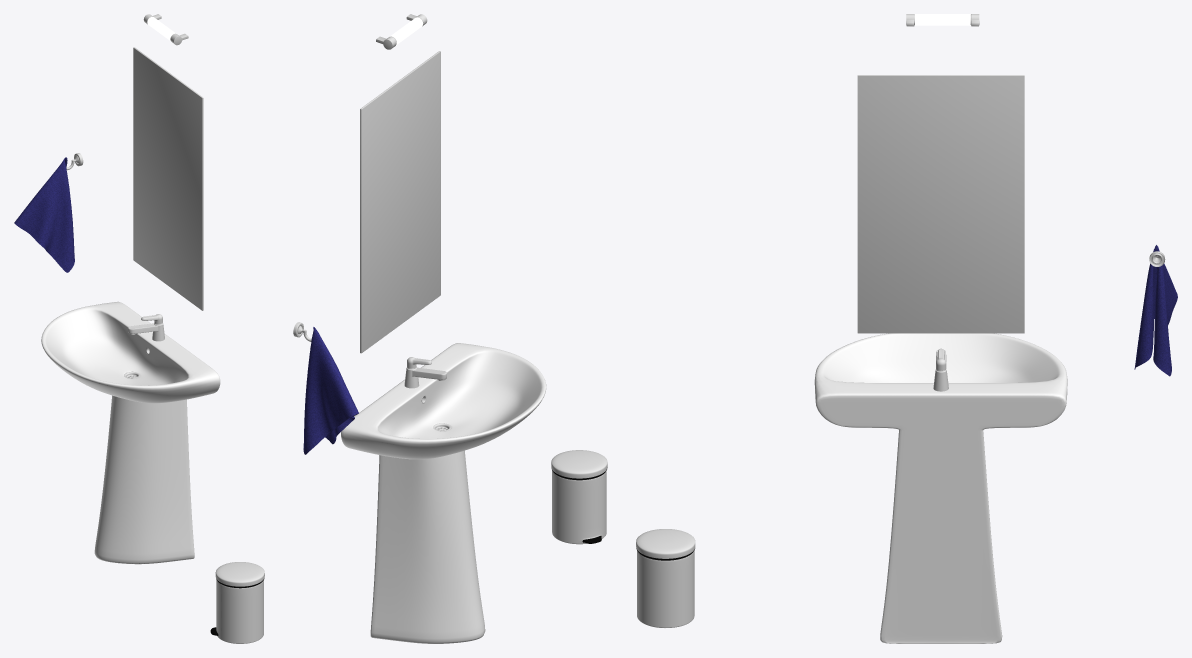
Rendered from sink8.glb.
The picture shows the model from 3 angles, left to right: view 1: azimuth 30°, elevation 25°; view 2: azimuth 150°, elevation 25°; view 3: azimuth 270°, elevation 25°; orthographic projection. The views are drawn at different scales.
Parts seen in each view (by area): view 1: sink, bath_mirror, trash_can, towel, mirror_light, tap; view 2: sink, bath_mirror, trash_can, towel, mirror_light, tap; view 3: bath_mirror, sink, trash_can, towel, mirror_light.
Part boxes in pixels (box(x1,y1,x2,y2)): sink: box(41, 301, 220, 564); bath_mirror: box(133, 47, 203, 310); trash_can: box(210, 562, 264, 643); towel: box(14, 157, 74, 272); mirror_light: box(143, 14, 188, 45); tap: box(128, 323, 164, 341); sink: box(341, 343, 546, 643); bath_mirror: box(360, 51, 440, 353); trash_can: box(551, 450, 607, 544); towel: box(303, 327, 358, 454); mirror_light: box(376, 14, 427, 49); tap: box(404, 367, 446, 388); bath_mirror: box(857, 75, 1024, 333); sink: box(814, 333, 1067, 643); trash_can: box(636, 529, 695, 627); towel: box(1134, 245, 1177, 376); mirror_light: box(906, 14, 979, 26).
Bounding box in the file's own units: 0.5585 × 2.38 × 1.87.
Materials: 5 (1 with a texture image).
